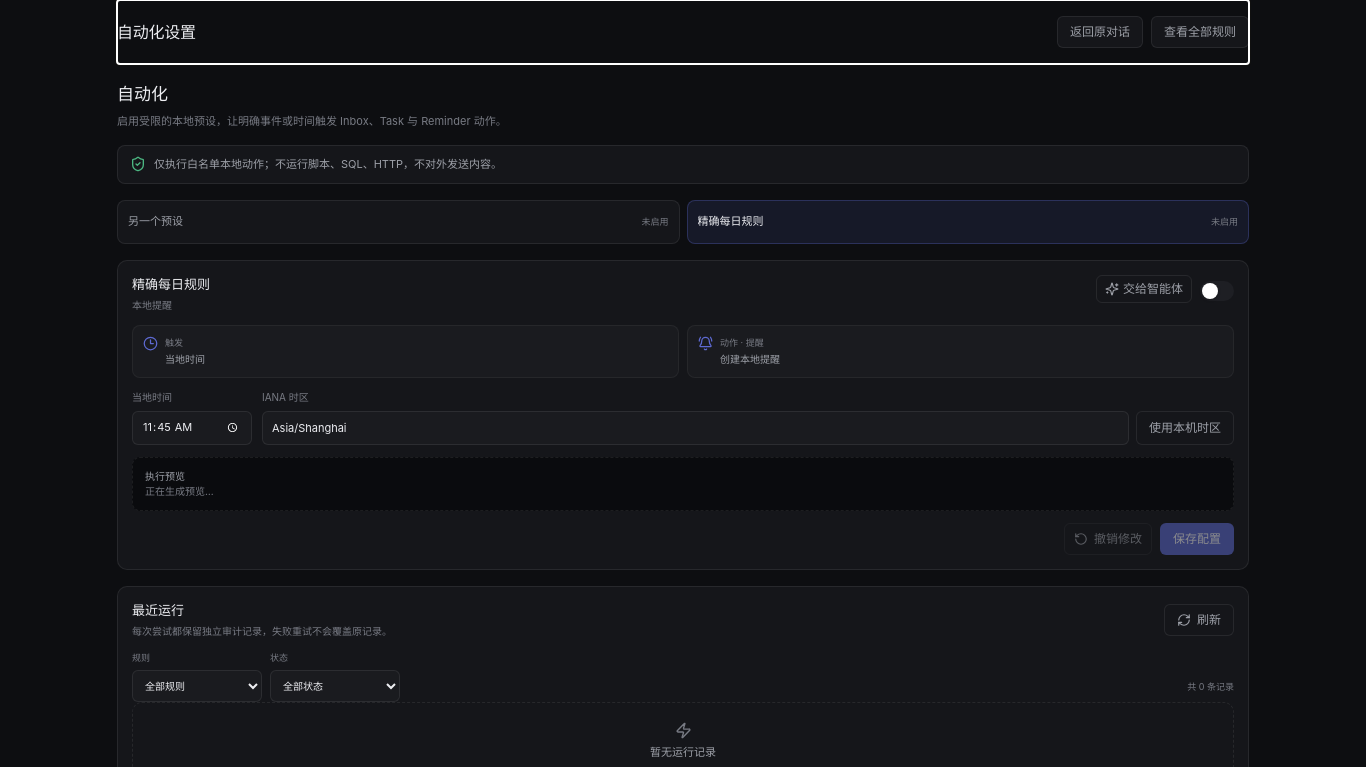
Test case: exact automation settings navigation › selects the actual rule rather than the first preset and keeps the existing editor
The width and height of the screenshot is (1366, 767).
Expected: the heading "精确每日规则" is shown, x1=132 y1=274 x2=210 y2=294
Replace the text in the time field labelled "当地时间" with "10:30" at coordinates (192, 428), box x1=132 y1=410 x2=252 y2=444
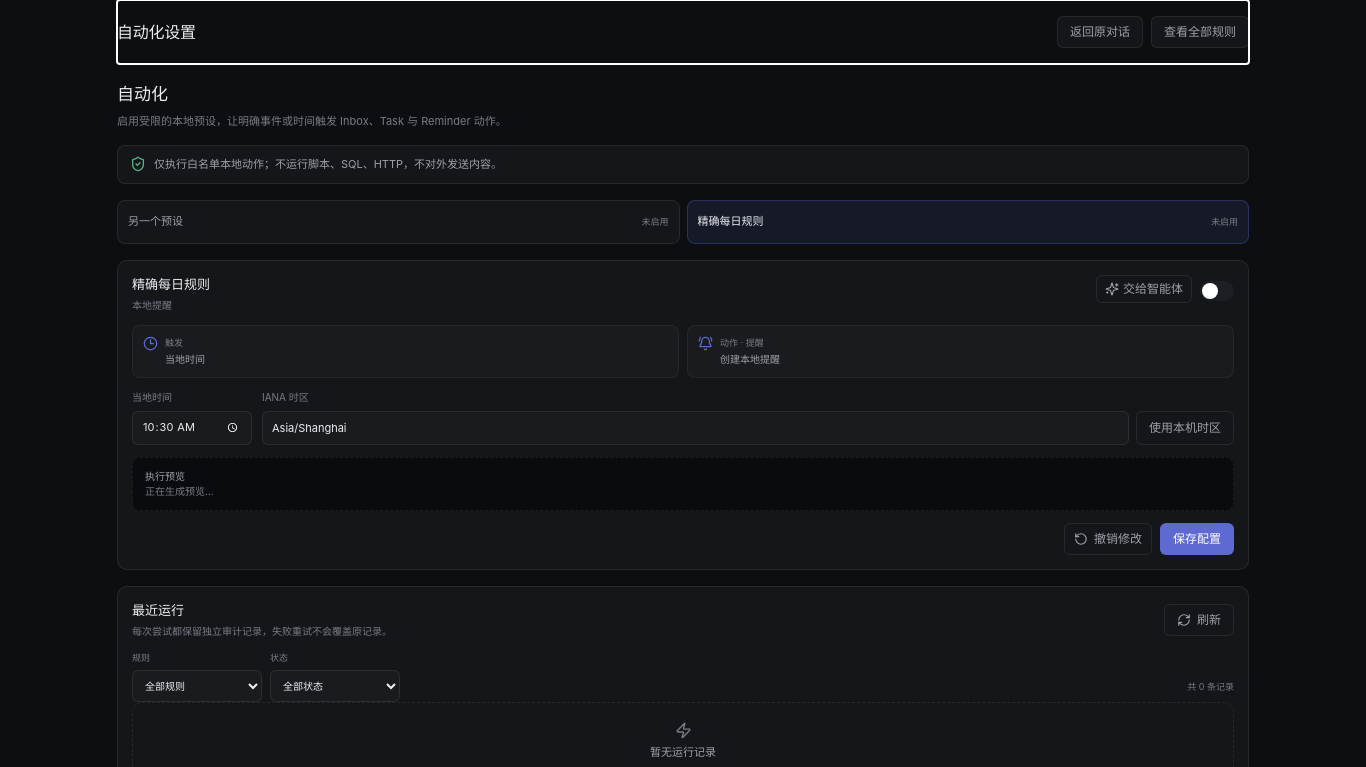
Click the button "另一个预设 未启用" at coordinates (156, 221), box x1=117 y1=200 x2=680 y2=244
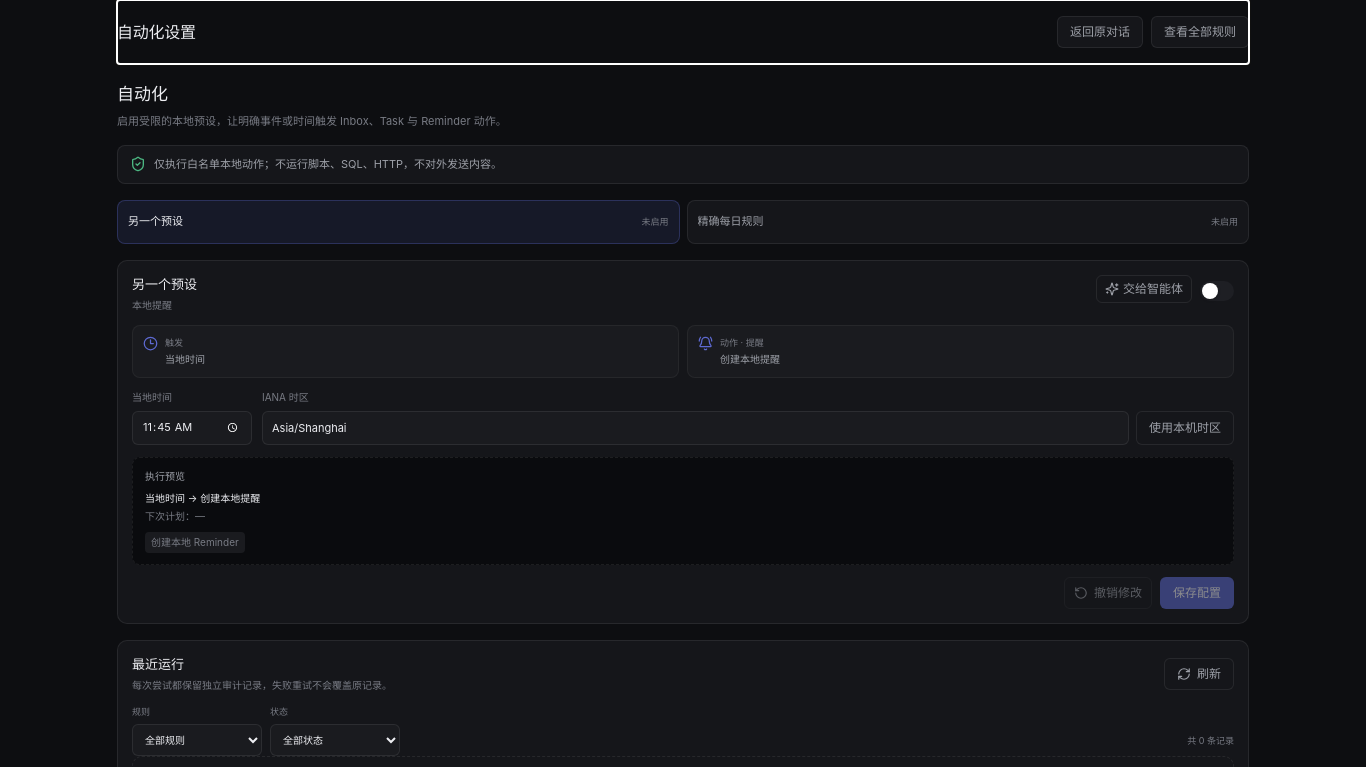
Now the heading "另一个预设" is shown, box x1=132 y1=274 x2=197 y2=294
Now the time field labelled "当地时间" holds "11:45", box x1=132 y1=410 x2=252 y2=444
